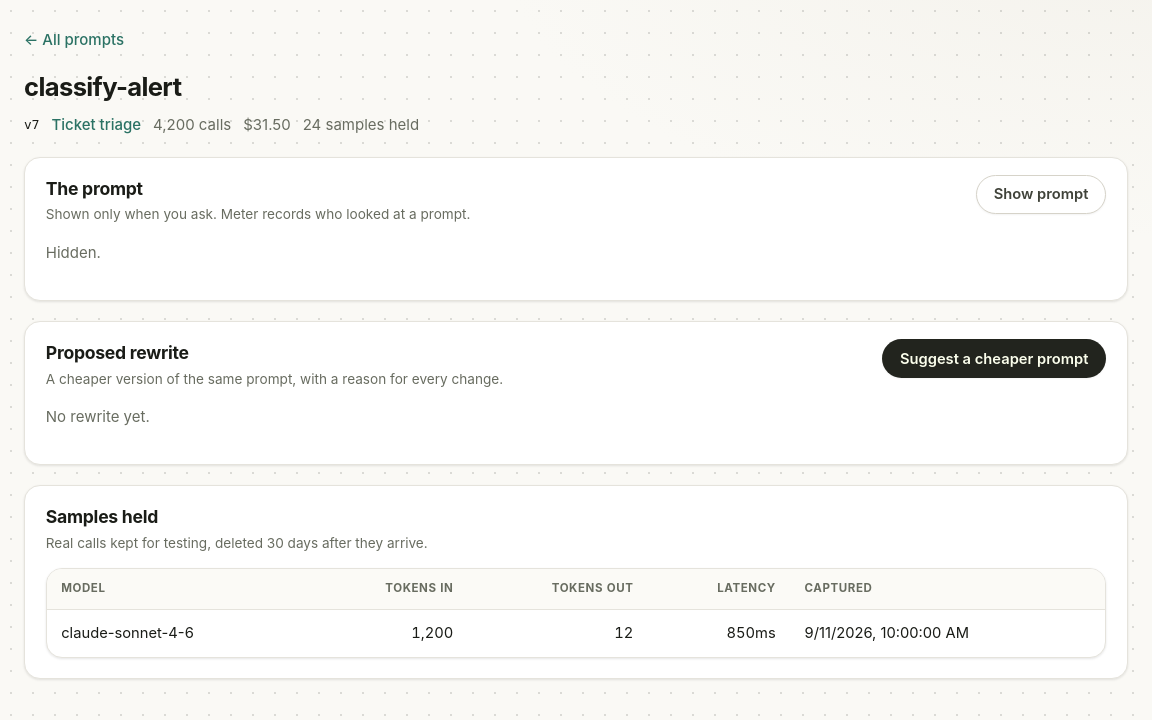
Scenario: Prompt detail › says so when the server refuses
This screenshot has width=1152, height=720.
Click the button "Suggest a cheaper prompt".
click(994, 359)  # box x1=882 y1=339 x2=1106 y2=378
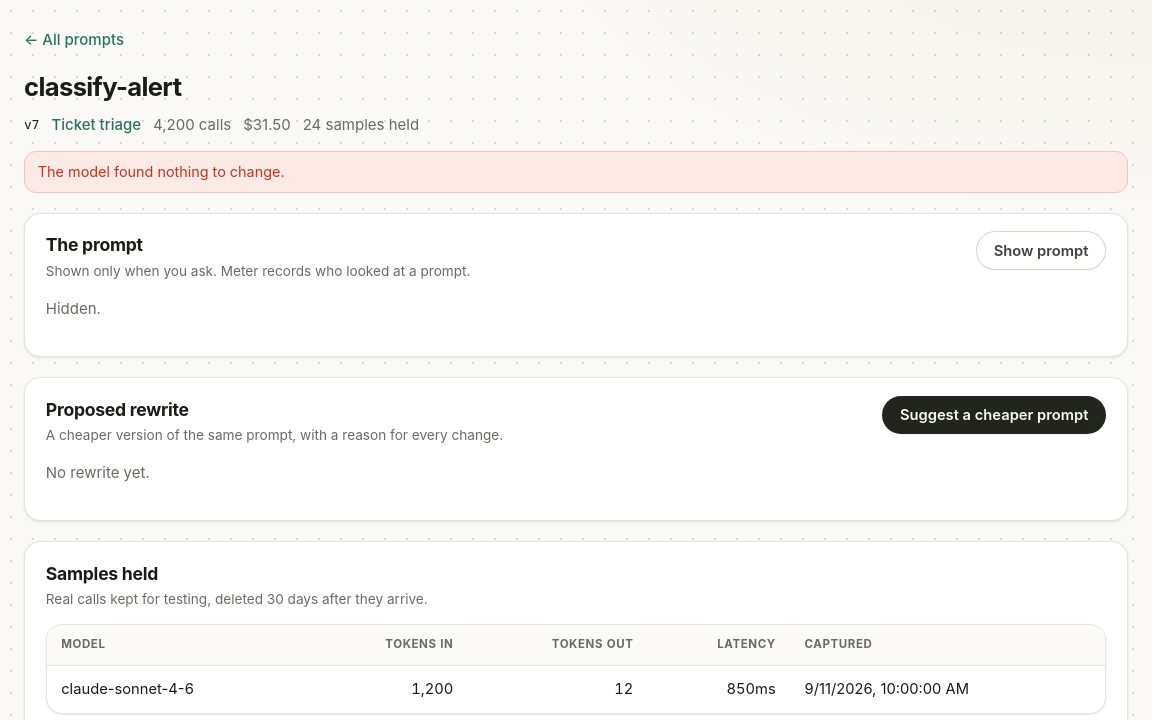
Check: the text "The model found nothing to change." is shown, box x1=24 y1=151 x2=1128 y2=193
